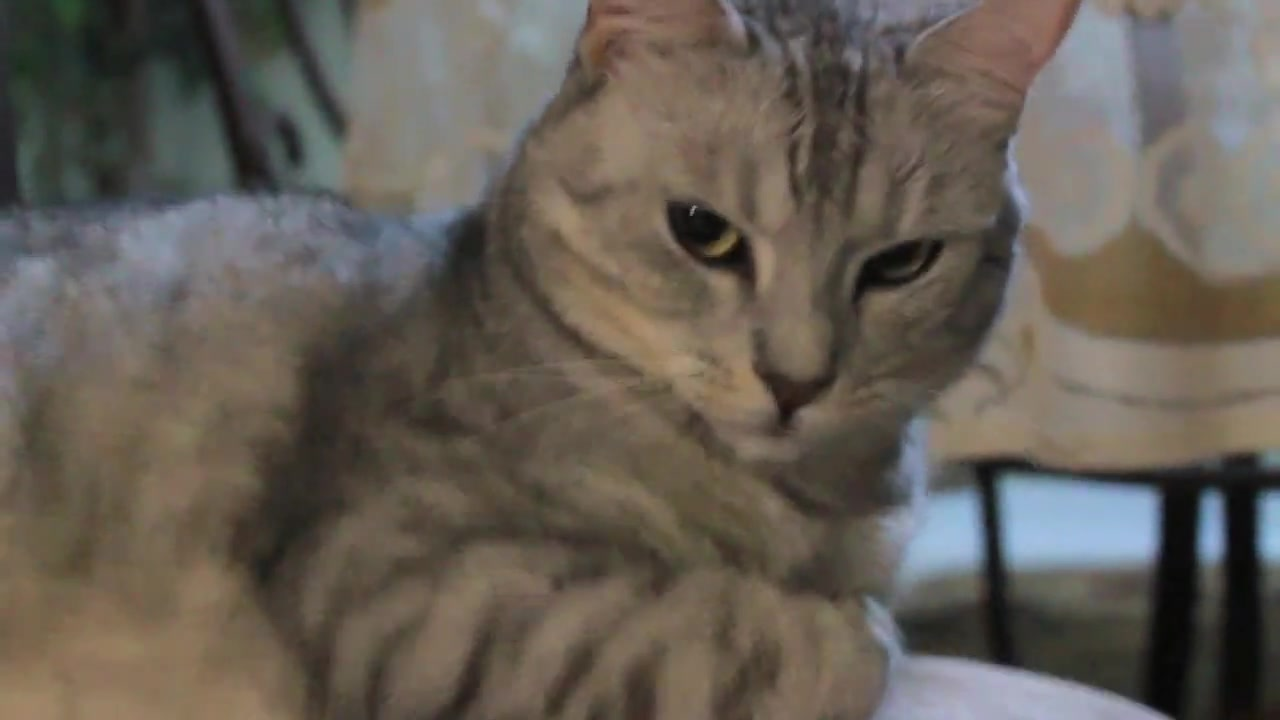cat: (1, 1, 1081, 720)
